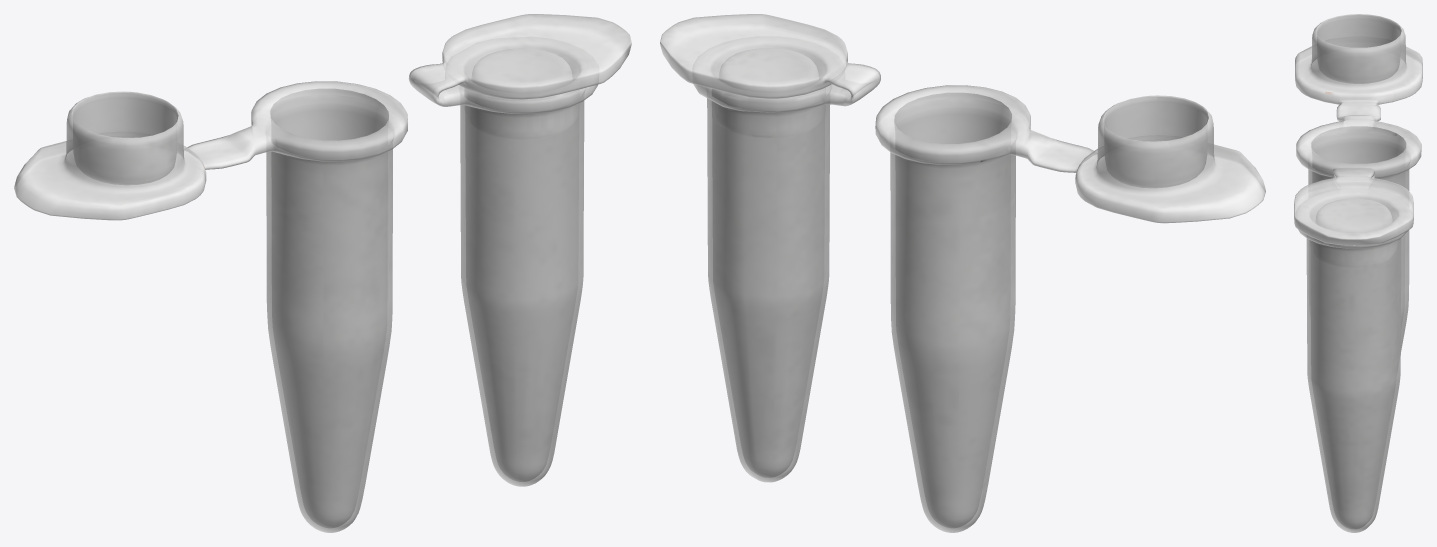
The model's file is 5ml离心管.glb.
3 views of the same model, side by side, from view 1: azimuth 30°, elevation 25°; view 2: azimuth 150°, elevation 25°; view 3: azimuth 270°, elevation 25° (orthographic). The views are drawn at different scales.
Visible parts, largest first — view 1: Obj3d66-15939536-2-721, Obj3d66-15939536-1-292; view 2: Obj3d66-15939536-2-721, Obj3d66-15939536-1-292; view 3: Obj3d66-15939536-1-292, Obj3d66-15939536-2-721.
Part boxes in pixels (x1=…): Obj3d66-15939536-2-721: x1=14, y1=81, x2=407, y2=532; Obj3d66-15939536-1-292: x1=408, y1=14, x2=631, y2=486; Obj3d66-15939536-2-721: x1=875, y1=85, x2=1265, y2=532; Obj3d66-15939536-1-292: x1=660, y1=14, x2=880, y2=482; Obj3d66-15939536-1-292: x1=1294, y1=167, x2=1413, y2=532; Obj3d66-15939536-2-721: x1=1295, y1=14, x2=1422, y2=351.
Bounding box in the file's own units: 1.44 × 1.07 × 0.3539.
Materials: 1 (1 with a texture image).
